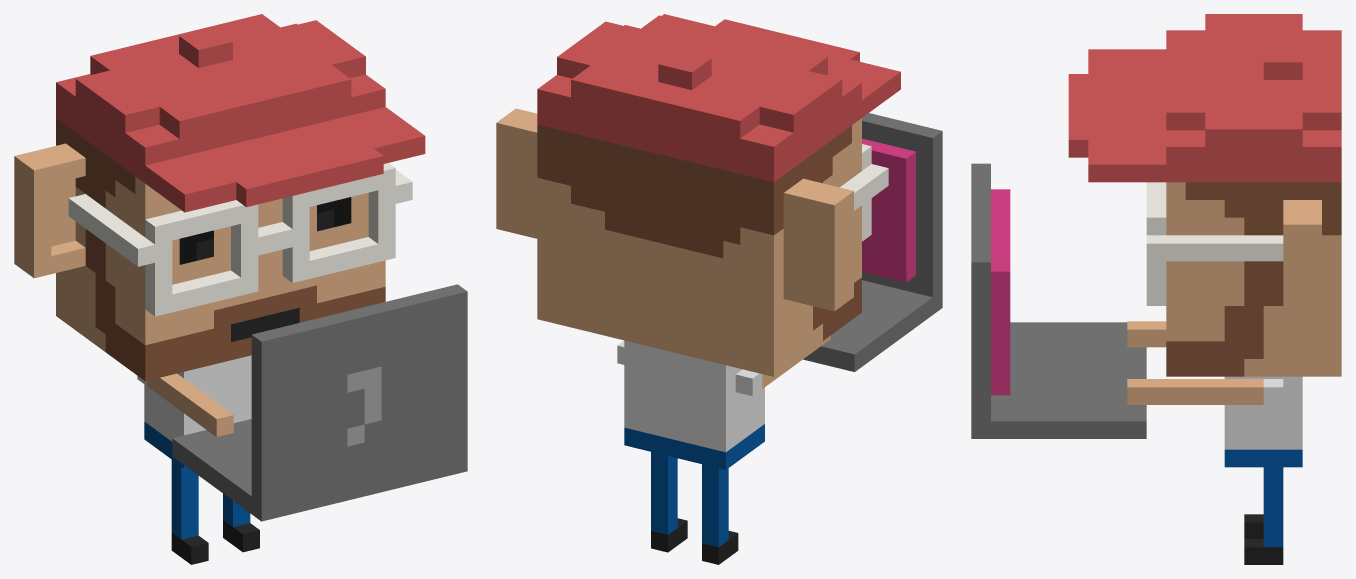
File: character.glb
3 renders of one model, left to right at view 1: azimuth 30°, elevation 25°; view 2: azimuth 150°, elevation 25°; view 3: azimuth 270°, elevation 25°, orthographic.
Visible parts, largest first — view 1: me-with-mac.vox.001; view 2: me-with-mac.vox.001; view 3: me-with-mac.vox.001.
Boxes of the visible parts, box(x1,y1,x2,y2) form: me-with-mac.vox.001: box(14, 14, 467, 564); me-with-mac.vox.001: box(496, 14, 942, 564); me-with-mac.vox.001: box(971, 14, 1341, 564).
Size of the model in its own units: 2 by 2.8 by 1.9.
Materials: 1 (1 with a texture image).
